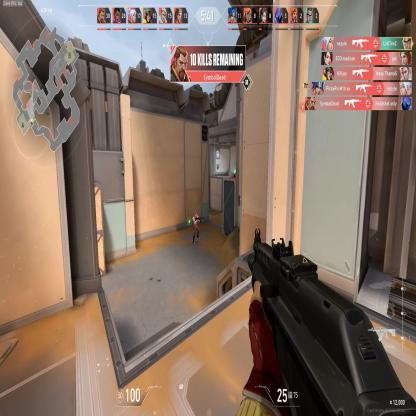enemy: (192, 210, 200, 245)
